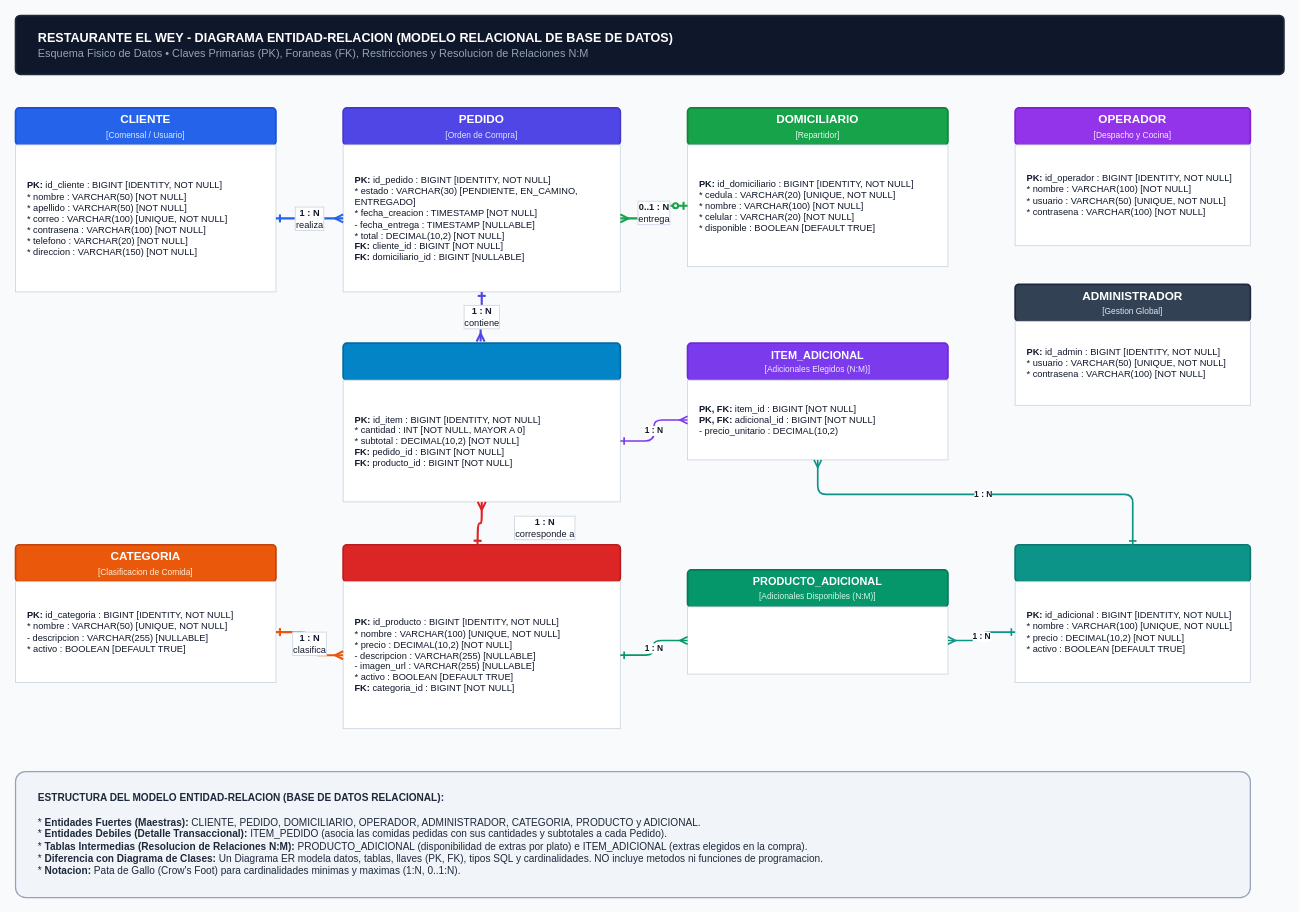
Image size: 1299x912. Some labels were removed from this diagram. Here are the shapes that lost their labels. From the top down, the box of each, then its label:
(342, 342, 621, 381): ITEM_PEDIDO [Detalle del Pedido]
(342, 543, 621, 582): PRODUCTO (COMIDA) [Catalogo del Menu]
(1014, 543, 1251, 582): ADICIONAL [Extras / Toppings]
(687, 606, 948, 674): PK, FK: producto_id : BIGINT [NOT NULL] PK, FK: adicional_id : BIGINT [NOT NULL]
